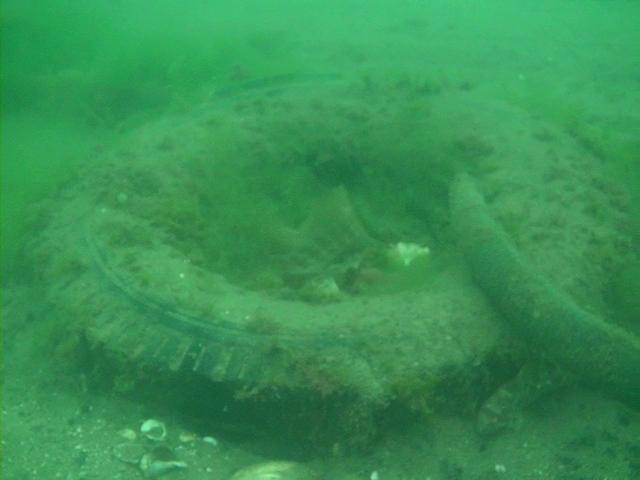tire: (28, 71, 628, 459)
